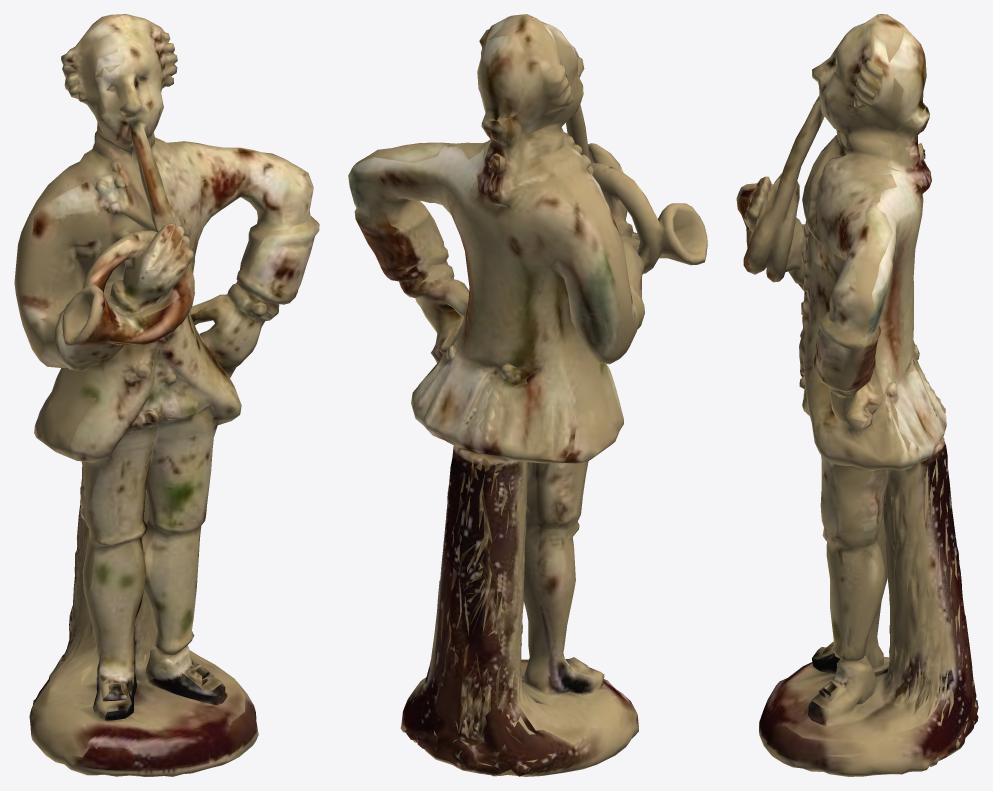
File: horn-player-20177419.glb
The picture shows the model from 3 angles, left to right: view 1: azimuth 30°, elevation 25°; view 2: azimuth 150°, elevation 25°; view 3: azimuth 270°, elevation 25°; orthographic projection. The views are drawn at different scales.
Parts seen in each view (by area): view 1: Mesh; view 2: Mesh; view 3: Mesh.
Boxes of the visible parts, x1,y1,x2,y2 form: Mesh: (14, 14, 319, 776); Mesh: (348, 14, 707, 776); Mesh: (736, 14, 978, 776).
Size of the model in its own units: 0.07 by 0.162 by 0.0501.
Materials: 1 (1 with a texture image).
